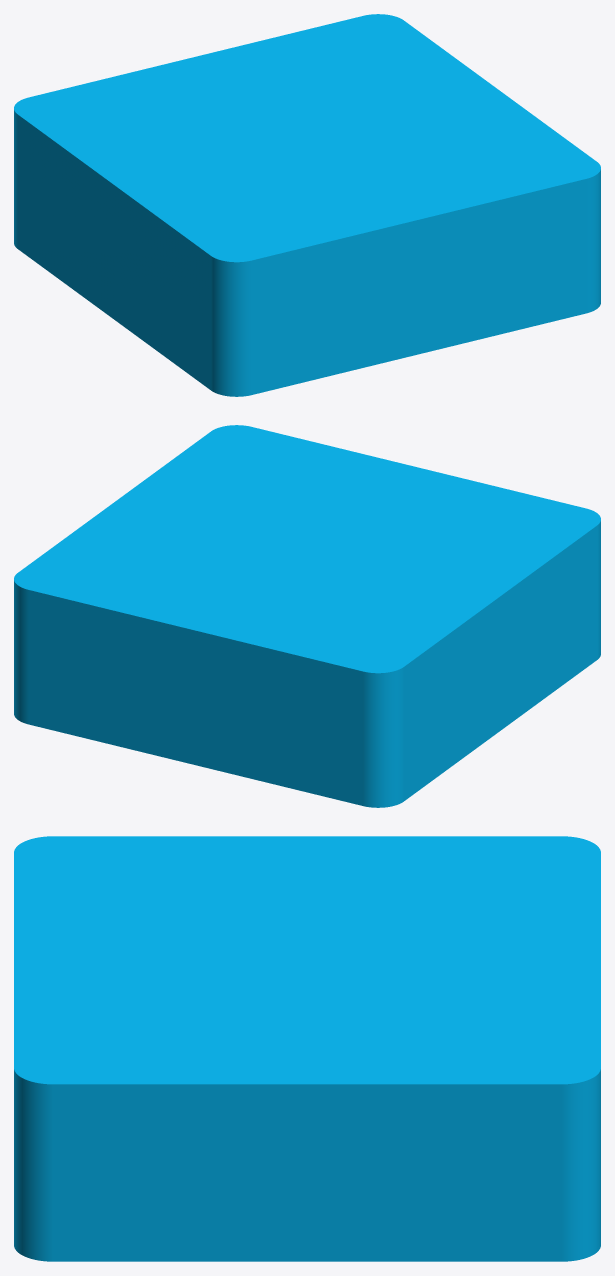
The model's file is fillet.gltf.
3 renders of one model, top to bottom at view 1: azimuth 30°, elevation 25°; view 2: azimuth 150°, elevation 25°; view 3: azimuth 270°, elevation 25°, orthographic. The views are drawn at different scales.
Visible parts, largest first — view 1: Gövde; view 2: Gövde; view 3: Gövde.
Part boxes in pixels (box(x1,y1,x2,y2)): Gövde: box(14, 14, 600, 396); Gövde: box(14, 425, 600, 807); Gövde: box(14, 836, 600, 1261).
Bounding box in the file's own units: 0.03 × 0.01 × 0.03.
